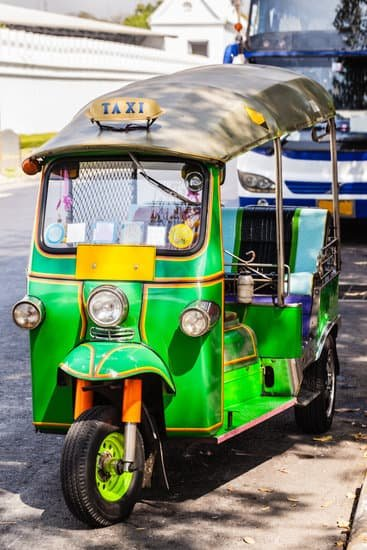threewheel: (11, 63, 345, 528)
